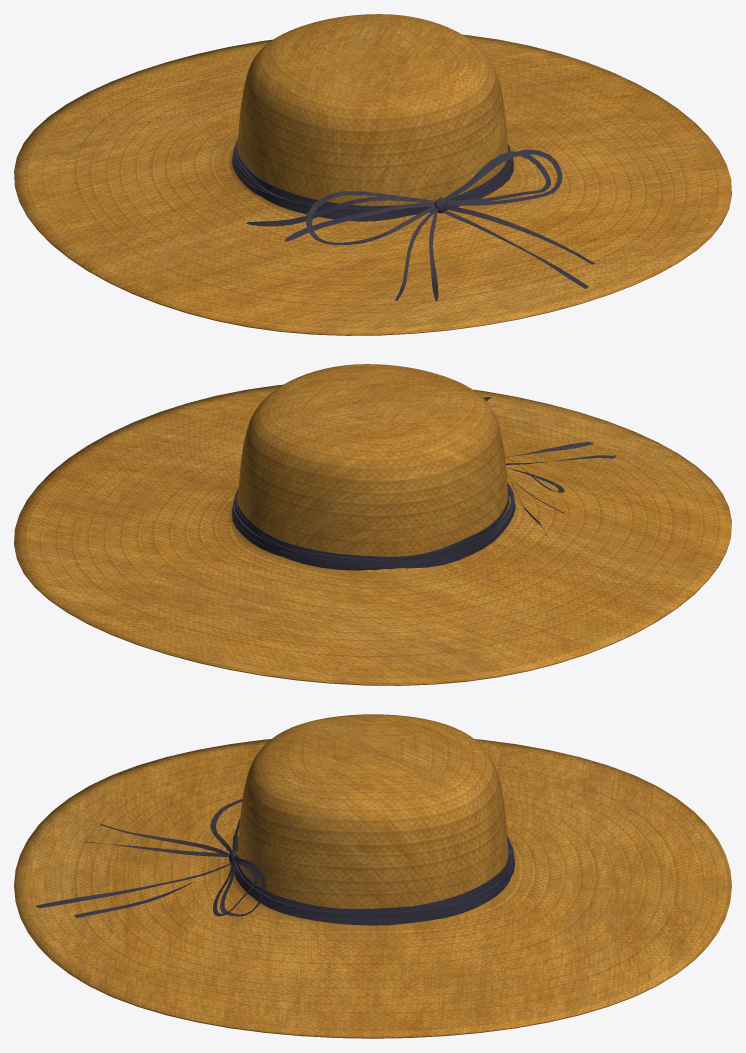
File: Hat3.fbx
3 views of the same model, one above another, from view 1: azimuth 30°, elevation 25°; view 2: azimuth 150°, elevation 25°; view 3: azimuth 270°, elevation 25° (orthographic). The views are drawn at different scales.
Visible parts, largest first — view 1: Hat3, Plane.002, Cylinder.002; view 2: Hat3, Cylinder.002, Plane.002; view 3: Hat3, Cylinder.002, Plane.002.
Part boxes in pixels (x1,y1,x2,y2): Hat3: [14, 14, 731, 335]; Plane.002: [246, 149, 595, 301]; Cylinder.002: [232, 140, 513, 221]; Hat3: [14, 364, 731, 685]; Cylinder.002: [232, 483, 515, 570]; Plane.002: [483, 397, 616, 537]; Hat3: [14, 714, 731, 1038]; Cylinder.002: [234, 836, 514, 925]; Plane.002: [36, 798, 265, 918].
Size of the model in its own units: 424 by 90.16 by 424.
Materials: 1 (1 with a texture image).
